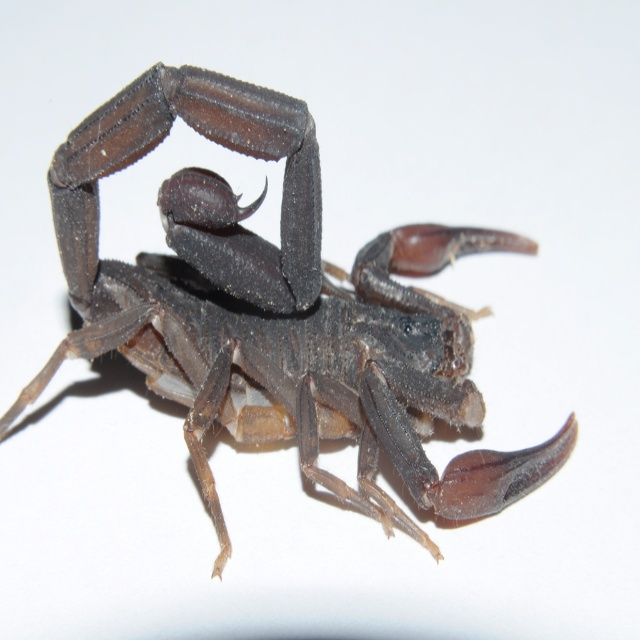Scorpion: (0, 57, 582, 581)
